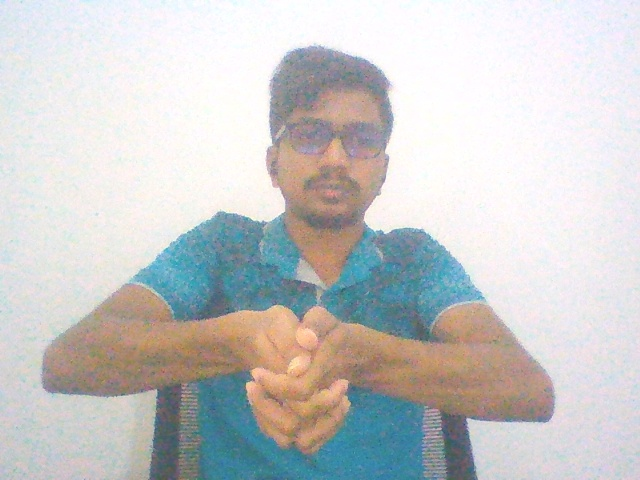mangosteen: (228, 289, 370, 464)
